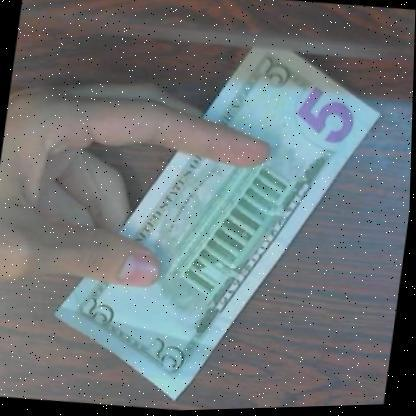five-back: (37, 23, 392, 415)
